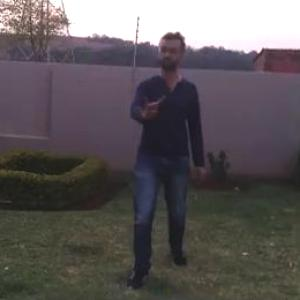takeoff-hand: (135, 88, 168, 121)
